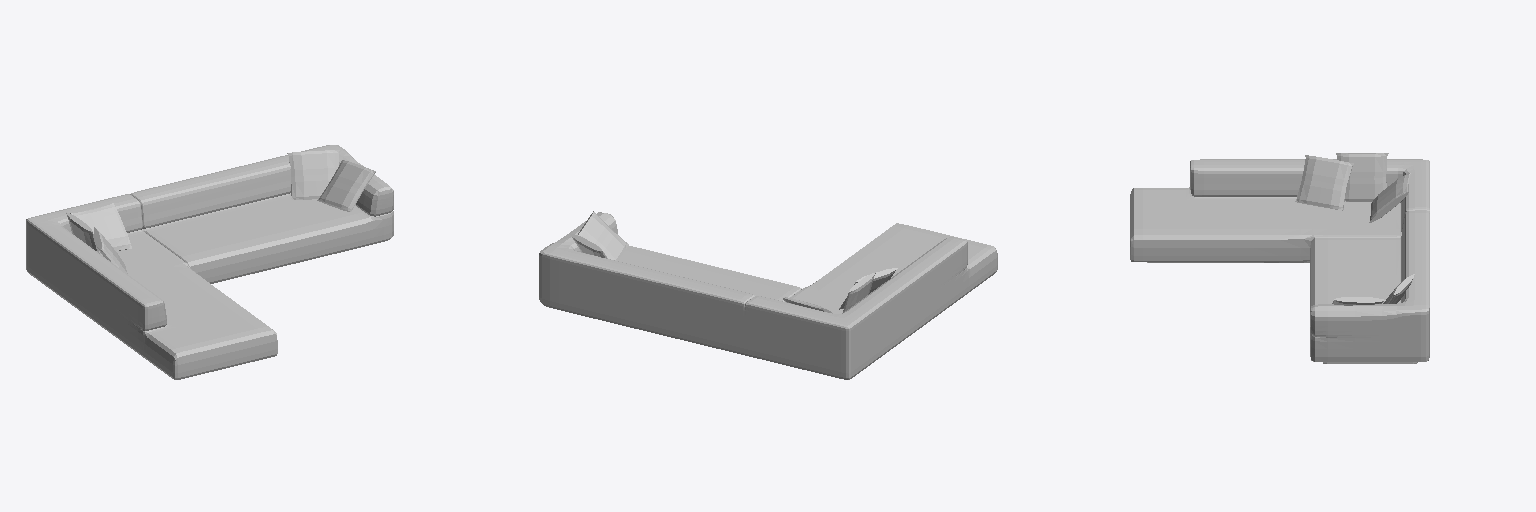
The model's file is sofa.obj.
The picture shows the model from 3 angles: view 1: azimuth 30°, elevation 25°; view 2: azimuth 150°, elevation 25°; view 3: azimuth 270°, elevation 25°; orthographic projection.
Visible parts, largest first — view 1: sofa_Cube.001; view 2: sofa_Cube.001; view 3: sofa_Cube.001.
Part boxes in pixels (x1,y1,x2,y2): sofa_Cube.001: (26,145,393,379); sofa_Cube.001: (539,211,997,379); sofa_Cube.001: (1130,153,1429,363).
Bounding box in the file's own units: 6 × 1.38 × 5.